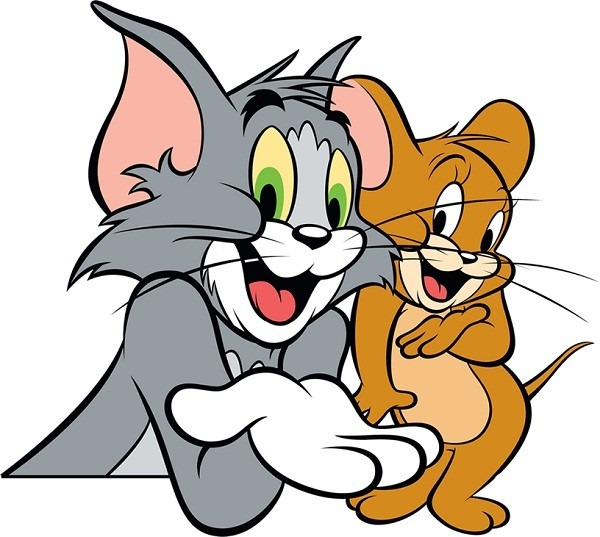jerry: (326, 74, 593, 535)
